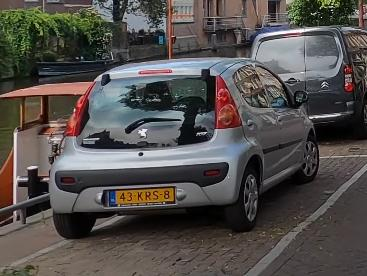license-plate: (109, 188, 178, 206)
